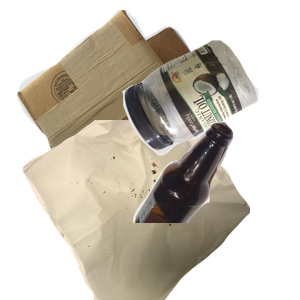cardboard: (14, 10, 222, 190)
glass: (130, 120, 300, 300)
plastic: (120, 37, 300, 185)
trash: (20, 120, 260, 300)
